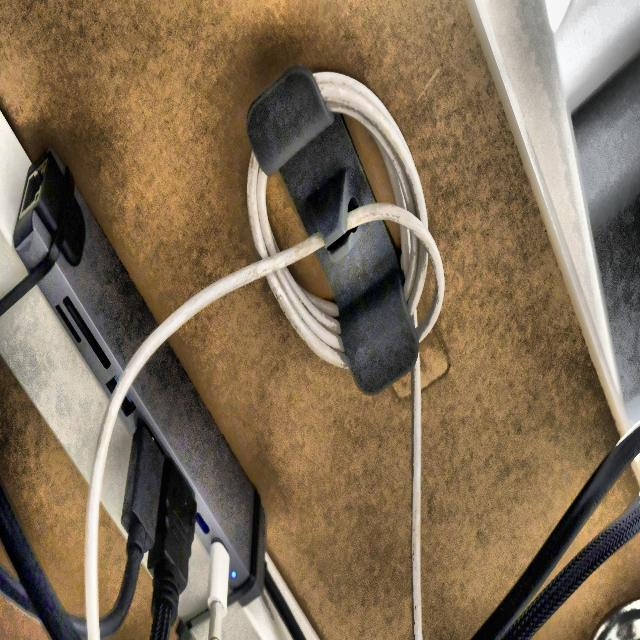HUB: (119, 342, 266, 640), (13, 148, 157, 397)
